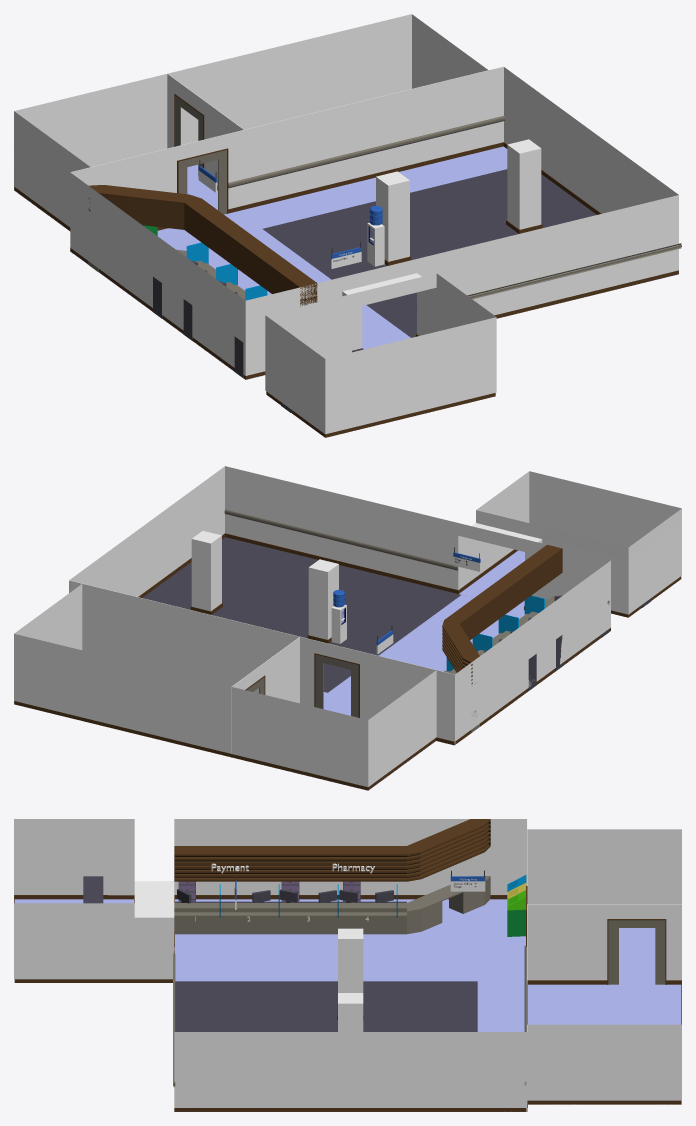
Rendered from Clinic 2.fbx.
The picture shows the model from 3 angles, top to bottom: view 1: azimuth 30°, elevation 25°; view 2: azimuth 150°, elevation 25°; view 3: azimuth 270°, elevation 25°; orthographic projection. The views are drawn at different scales.
Parts seen in each view (by area): view 1: Left Wall, Plane.002, Waiting Floor.001, Waiting Floor, Left Wall.002, Top Wall, Bottom Wall, Recep table.001, Left Wall.003, Plane.001, Pillar 1, Plane.003 (+10 smaller); view 2: Plane.002, Left Wall, Waiting Floor, Waiting Floor.001, Top Wall, Bottom Wall, Left Wall.002, Recep table.001, Plane.001, Left Wall.003, Pillar 1, Plane.003 (+7 smaller); view 3: Waiting Floor, Bottom Wall, Top Wall, Plane.003, Plane.001, Recep table.001, Recep table.003, Left Wall.001, Left Wall.003, Plane.006, Plane.005, Left Wall (+6 smaller).
Boxes of the visible parts, x1,y1,x2,y2 form: Left Wall: (245,195,678,379); Plane.002: (14,14,411,190); Waiting Floor.001: (70,66,503,251); Waiting Floor: (71,146,677,379); Left Wall.002: (325,317,496,437); Top Wall: (70,172,245,379); Bottom Wall: (503,67,678,274); Recep table.001: (88,185,317,306); Left Wall.003: (265,315,325,437); Plane.001: (14,111,90,231); Pillar 1: (506,139,542,233); Plane.003: (412,14,488,88); Plane.002: (14,634,368,790); Left Wall: (225,466,628,630); Waiting Floor: (142,537,610,743); Waiting Floor.001: (69,580,455,745); Top Wall: (455,560,610,744); Bottom Wall: (69,466,225,597); Left Wall.002: (529,471,681,547); Recep table.001: (442,544,562,685); Plane.001: (368,670,436,790); Left Wall.003: (628,508,681,617); Pillar 1: (190,531,222,614); Plane.003: (14,584,82,704); Waiting Floor: (175,899,525,1111); Bottom Wall: (174,1032,526,1111); Top Wall: (174,819,526,899); Plane.003: (527,1024,681,1104); Plane.001: (527,829,681,904); Recep table.001: (174,819,490,881); Recep table.003: (174,876,490,934); Left Wall.001: (14,903,134,982); Left Wall.003: (14,819,134,899); Plane.006: (527,904,681,984); Plane.005: (528,928,681,1104); Left Wall: (14,881,174,1111).
Bounding box in the file's own units: 1995 × 354 × 2631.
